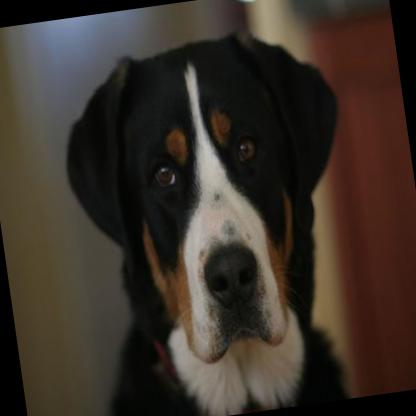Greater_Swiss_Mountain_dog: (29, 11, 381, 416)
